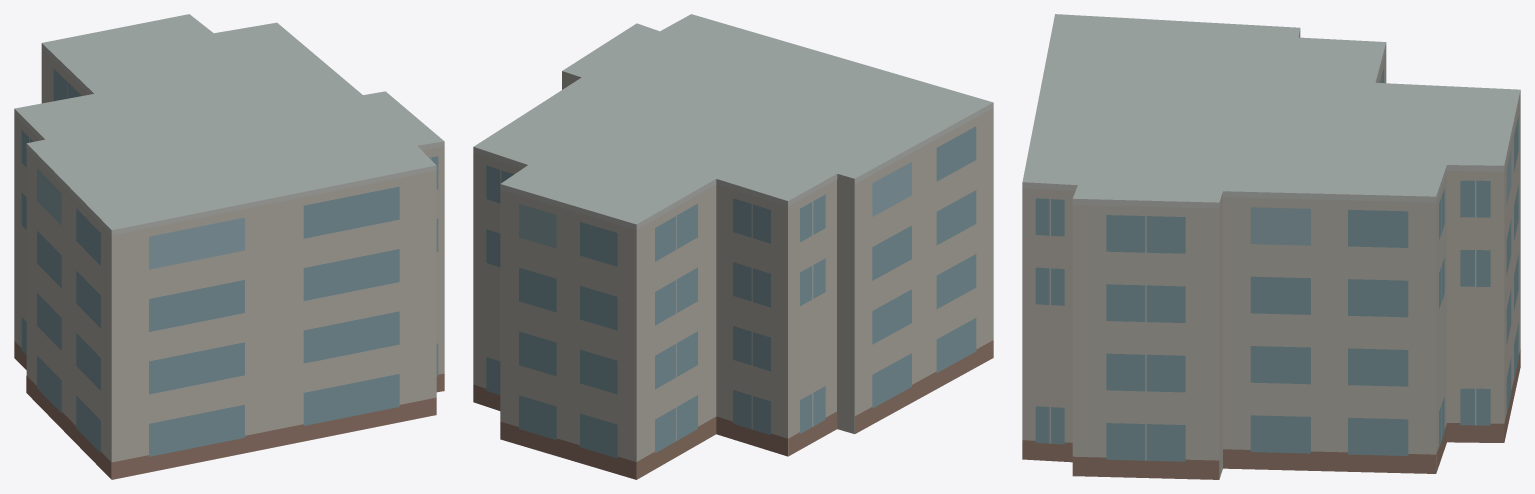
Rendered from survey-upis-32573283.glb.
The picture shows the model from 3 angles, left to right: view 1: azimuth 30°, elevation 25°; view 2: azimuth 150°, elevation 25°; view 3: azimuth 270°, elevation 25°; orthographic projection. The views are drawn at different scales.
Visible parts, largest first — view 1: survey-upis-32573283.tmp; view 2: survey-upis-32573283.tmp; view 3: survey-upis-32573283.tmp.
Boxes of the visible parts, x1,y1,x2,y2 form: survey-upis-32573283.tmp: (14, 14, 444, 479); survey-upis-32573283.tmp: (473, 14, 993, 479); survey-upis-32573283.tmp: (1022, 14, 1520, 479).
Size of the model in its own units: 16.66 by 11.42 by 18.6.
